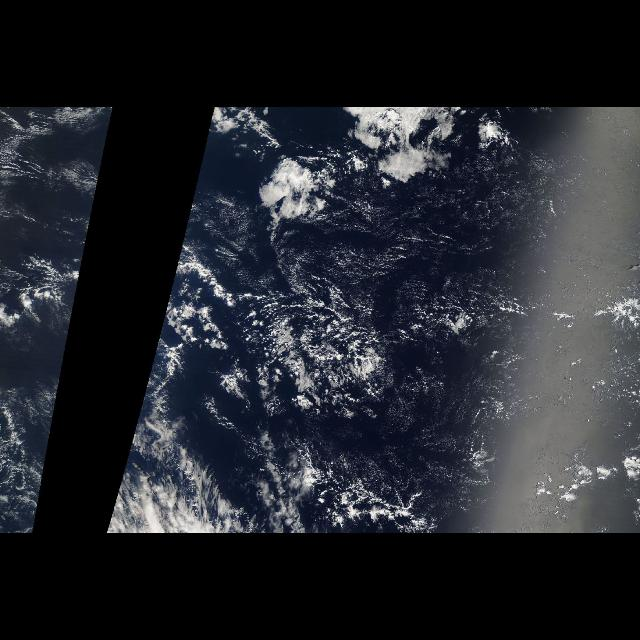Fish: (130, 246, 384, 534)
Flower: (206, 108, 522, 225)
Gravel: (239, 300, 413, 526)
Sugar: (218, 149, 640, 511), (1, 108, 108, 198)
